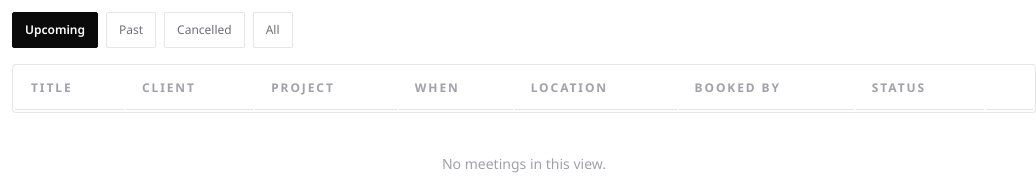
Test: MeetingsTable › excludes cancelled meetings from Upcoming, and shows them under Cancelled
The width and height of the screenshot is (1036, 190).
Check: the text "Called off" is not shown
Click the button "Cancelled" at (204, 30), box x1=164 y1=12 x2=245 y2=48
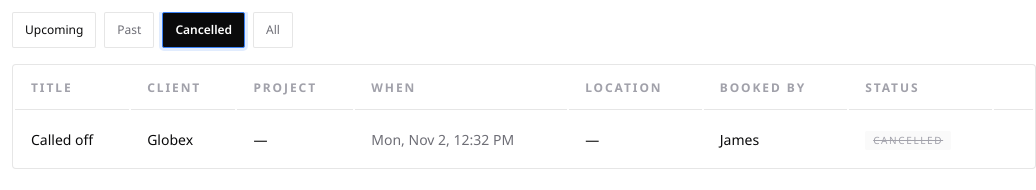
Check: the text "Called off" is shown, box x1=15 y1=112 x2=129 y2=166
